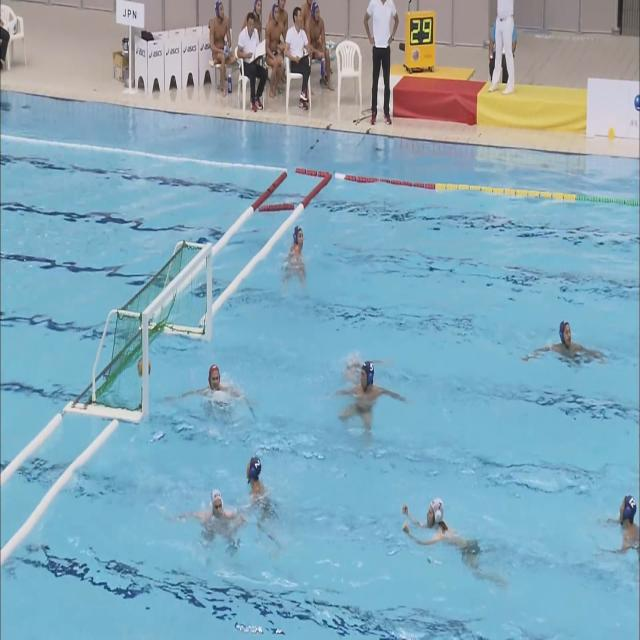ball: (138, 357, 150, 376)
